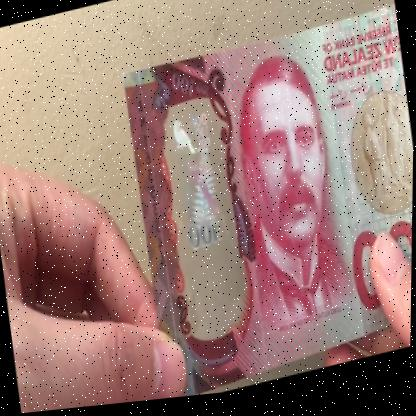100F: (164, 105, 238, 321)
